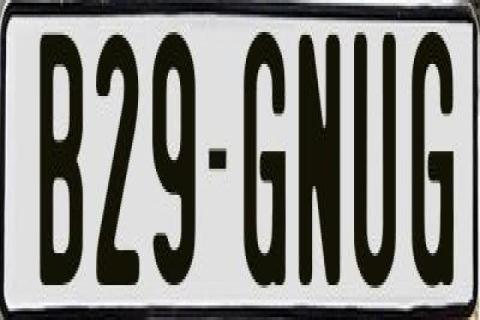0: (152, 24, 200, 282), (96, 29, 140, 288)
B: (37, 32, 85, 294)
G: (411, 29, 458, 297), (243, 27, 290, 286)
N: (296, 29, 338, 291)
U: (350, 32, 398, 291)
